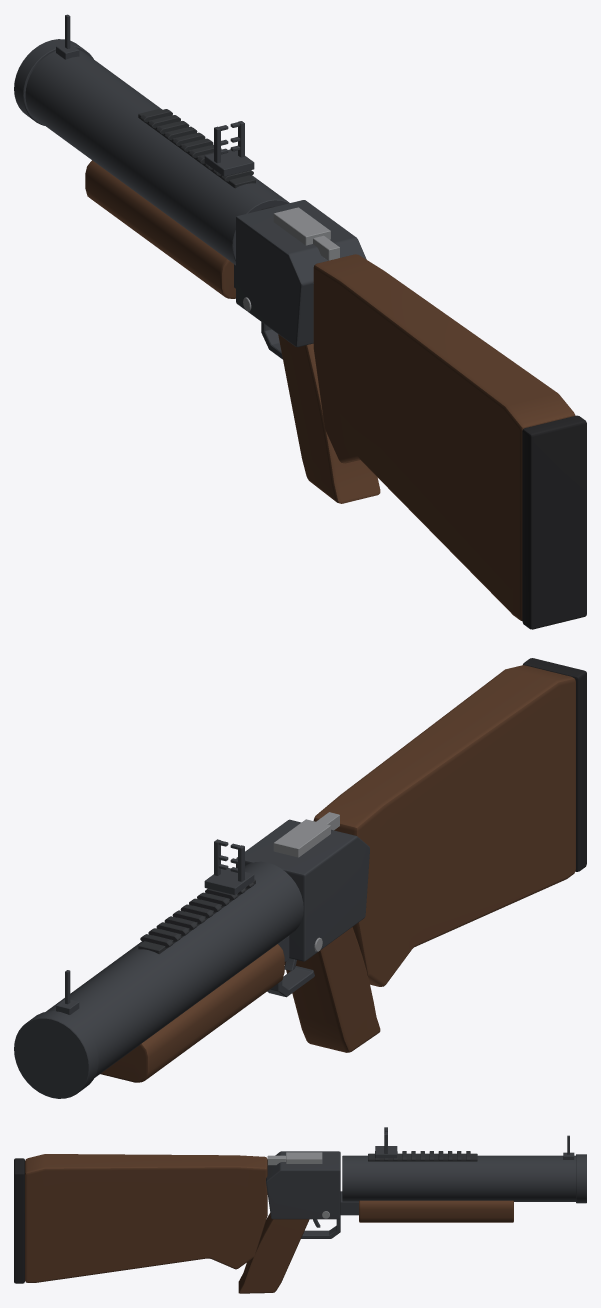
Rendered from wpn_thumper_40.glb.
The picture shows the model from 3 angles, top to bottom: view 1: azimuth 30°, elevation 25°; view 2: azimuth 150°, elevation 25°; view 3: azimuth 270°, elevation 25°; orthographic projection. The views are drawn at different scales.
Visible parts, largest first — view 1: Stock, Breech, StockPad, Receiver, Grip, Forend, LeafSight, ReceiverDetails; view 2: Stock, Breech, Receiver, Grip, Forend, StockPad, LeafSight, ReceiverDetails, TriggerGroup; view 3: Stock, Breech, Receiver, Forend, Grip, StockPad, ReceiverDetails, LeafSight, TriggerGroup.
Part boxes in pixels (x1,y1,x2,y2): Stock: [313, 254, 575, 620]; Breech: [14, 39, 289, 288]; StockPad: [522, 415, 586, 629]; Receiver: [236, 200, 366, 347]; Grip: [278, 334, 380, 503]; Forend: [85, 160, 235, 298]; LeafSight: [56, 14, 254, 176]; ReceiverDetails: [243, 207, 339, 311]; Stock: [313, 665, 575, 986]; Breech: [14, 861, 303, 1098]; Receiver: [236, 819, 369, 961]; Grip: [284, 927, 380, 1052]; Forend: [100, 944, 284, 1082]; StockPad: [523, 658, 586, 871]; LeafSight: [56, 839, 254, 1014]; ReceiverDetails: [273, 812, 339, 951]; TriggerGroup: [267, 958, 314, 997]; Stock: [25, 1154, 267, 1282]; Breech: [340, 1151, 586, 1215]; Receiver: [266, 1151, 340, 1219]; Forend: [359, 1200, 513, 1222]; Grip: [238, 1213, 309, 1293]; StockPad: [14, 1158, 24, 1283]; ReceiverDetails: [267, 1152, 329, 1218]; LeafSight: [375, 1127, 574, 1159]; TriggerGroup: [301, 1218, 340, 1238].
Bounding box in the file's own units: 0.054 × 0.1906 × 0.628.
